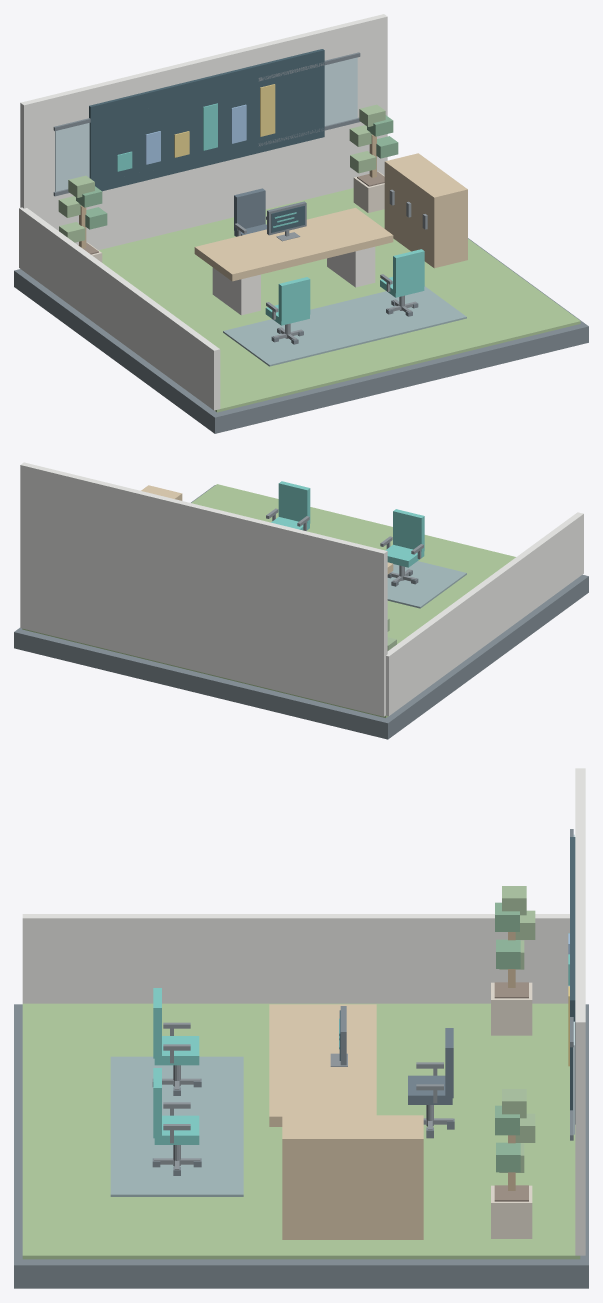
File: boss_room.glb
3 views of the same model, one above another, from view 1: azimuth 30°, elevation 25°; view 2: azimuth 150°, elevation 25°; view 3: azimuth 270°, elevation 25° (orthographic). The views are drawn at different scales.
Parts seen in each view (by area): view 1: room_floor_2, room_rear_wall_3, director_dashboard_834, room_left_wall_4, room_foundation_1, rug_76, storage_cabinet_72, director_desk_786, room_window_8, room_window_5, director_pedestal_787, director_pedestal_788 (+8 smaller); view 2: room_rear_wall_3, room_left_wall_4, room_foundation_1, room_floor_2, rug_76, chair_back_42, chair_back_27, chair_seat_26; view 3: room_floor_2, room_left_wall_4, room_foundation_1, storage_cabinet_72, rug_76, director_desk_786, room_rear_wall_3, planter_56, planter_64, director_dashboard_834, chair_seat_26, chair_seat_11 (+5 smaller).
Boxes of the visible parts, x1,y1,x2,y2 form: room_floor_2: (99,188,580,412); room_rear_wall_3: (20,14,387,250); director_dashboard_834: (89,49,324,191); room_left_wall_4: (19,207,220,410); room_foundation_1: (14,238,588,433); rug_76: (223,286,466,366); storage_cabinet_72: (384,153,467,268); director_desk_786: (194,207,393,281); room_window_8: (324,57,357,125); room_window_5: (55,123,89,191); director_pedestal_787: (212,267,260,315); director_pedestal_788: (327,246,375,287); room_rear_wall_3: (20,462,387,716); room_left_wall_4: (386,512,583,715); room_foundation_1: (14,485,588,739); room_floor_2: (22,484,515,717); rug_76: (387,561,466,608); chair_back_42: (278,481,310,525); chair_back_27: (393,509,424,551); chair_seat_26: (385,544,424,567); room_floor_2: (22,1003,580,1259); room_left_wall_4: (22,914,569,1003); room_foundation_1: (14,1004,588,1288); storage_cabinet_72: (282,1115,423,1239); rug_76: (110,1056,243,1196); director_desk_786: (269,1004,376,1126); room_rear_wall_3: (575,768,585,1255); planter_56: (491,982,532,1035); planter_64: (491,1185,532,1238); director_dashboard_834: (570,837,575,1124); chair_seat_26: (154,1036,199,1065); chair_seat_11: (408,1075,452,1104).
Bounding box in the file's own units: 7.2 × 3.38 × 6.7.
